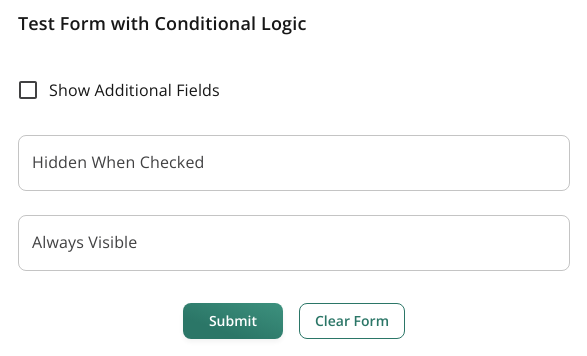
Test case: FormRenderer - Conditional Logic Integration › should show conditional elements when checkbox is checked
Click the checkbox labelled "Show Additional Fields".
click(118, 90)  # box [16,78,220,102]
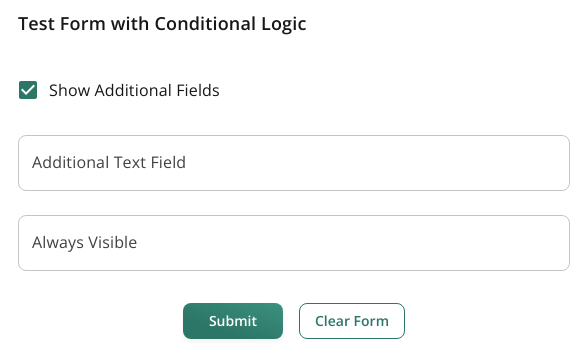
Check: the field labelled "Additional Text Field" is shown, box [18,135,570,191]
Check: the label labelled "Hidden When Checked" is gone
